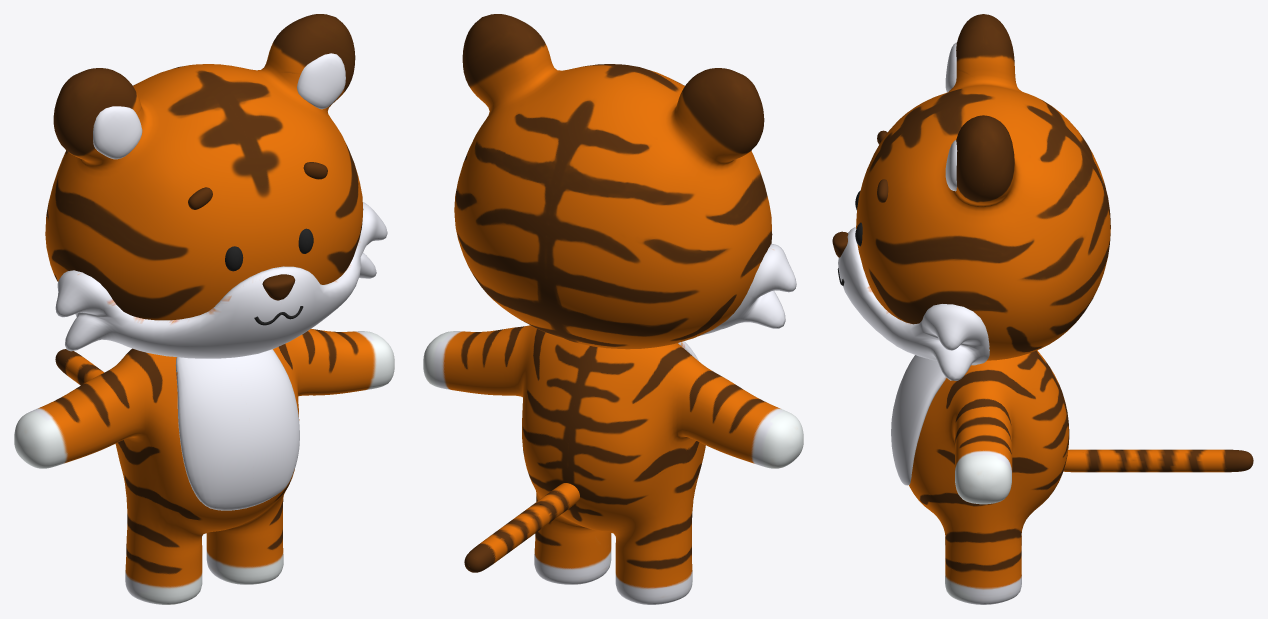
Rendered from tiger.glb.
The picture shows the model from 3 angles, left to right: view 1: azimuth 30°, elevation 25°; view 2: azimuth 150°, elevation 25°; view 3: azimuth 270°, elevation 25°; orthographic projection. The views are drawn at different scales.
Visible parts, largest first — view 1: head_1, body_0, body 2_4, head 2_2, ear 2_3, tail_9, eyebrown_6, eyes_5, nose_7; view 2: head_1, body_0, tail_9, head 2_2; view 3: head_1, body_0, head 2_2, tail_9, body 2_4, ear 2_3.
Part boxes in pixels (bbox=[...]): head_1: bbox=[45, 14, 363, 320]; body_0: bbox=[14, 329, 394, 604]; body 2_4: bbox=[175, 349, 299, 510]; head 2_2: bbox=[55, 202, 387, 358]; ear 2_3: bbox=[93, 53, 345, 159]; tail_9: bbox=[55, 349, 104, 385]; eyebrown_6: bbox=[188, 162, 327, 209]; eyes_5: bbox=[225, 228, 313, 271]; nose_7: bbox=[262, 274, 295, 300]; head_1: bbox=[454, 14, 772, 349]; body_0: bbox=[423, 325, 803, 604]; tail_9: bbox=[464, 483, 579, 572]; head 2_2: bbox=[699, 244, 796, 335]; head_1: bbox=[856, 14, 1110, 360]; body_0: bbox=[909, 350, 1069, 604]; head 2_2: bbox=[838, 227, 989, 380]; tail_9: bbox=[1063, 449, 1253, 472]; body 2_4: bbox=[891, 355, 946, 485]; ear 2_3: bbox=[945, 42, 957, 191].
Size of the model in its own units: 78.6 by 109 by 82.19.
Materials: 6 (4 with a texture image).
